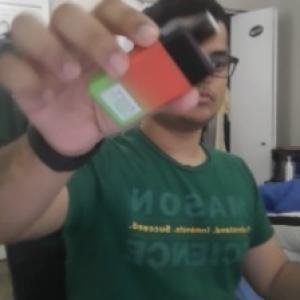Swift-E-Ciggirate: (83, 11, 225, 130)
